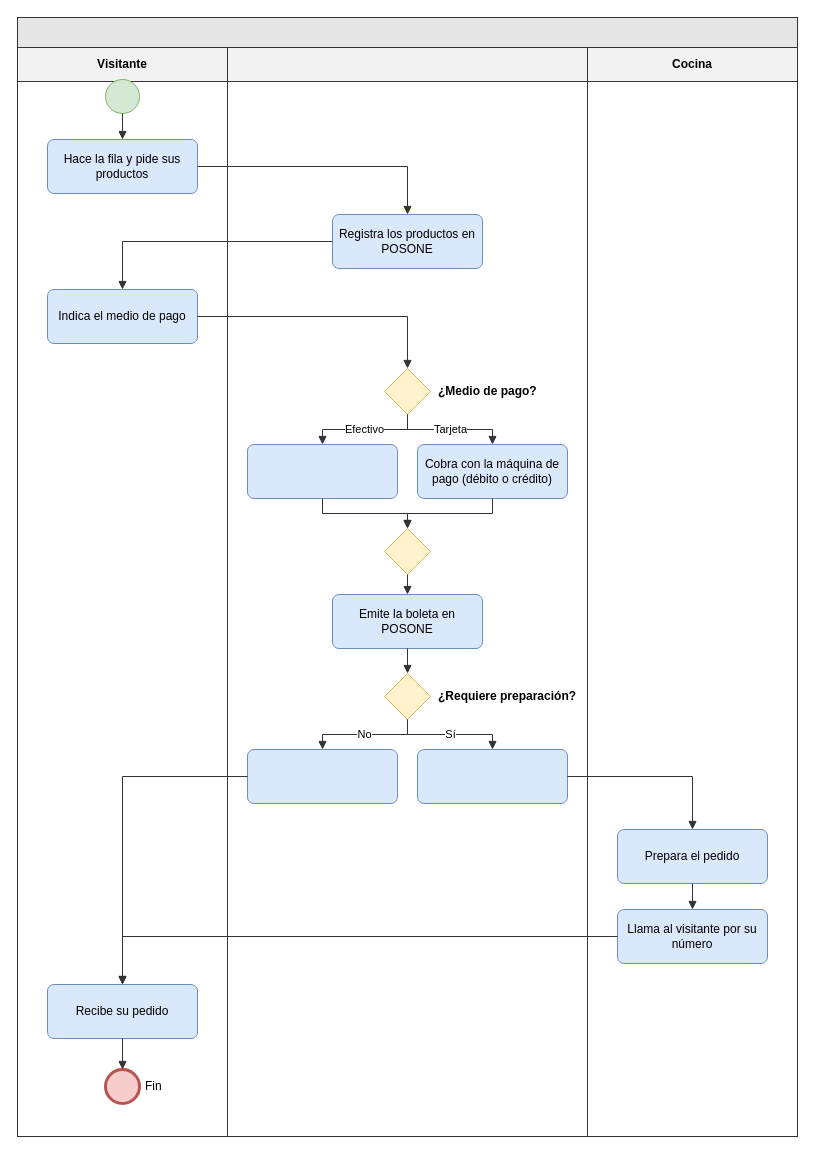
This 815x1154 diagram has some shape labels left out. The centre of each missing label's shape, as x and y in pixels:
"Atención en puesto de comida - situación actual" belongs at [407,32].
"Cajero" belongs at [407,64].
"Cobra en efectivo y entrega el vuelto" belongs at [322,471].
"Entrega el producto en caja" belongs at [322,776].
"Imprime la comanda y la entrega a cocina" belongs at [492,776].
"Llega al puesto" belongs at [122,96].
